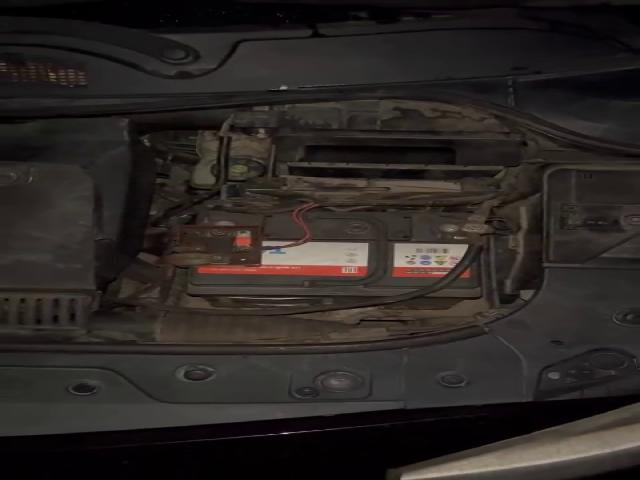accumulator: (164, 210, 491, 310)
fuse_box: (507, 163, 639, 271)
